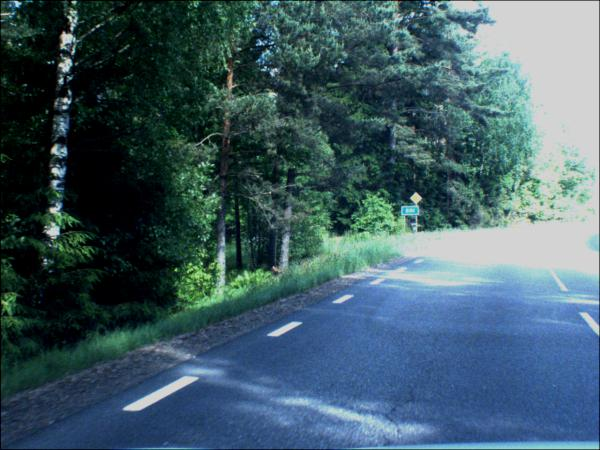PRIORITY_ROAD: (410, 193, 423, 206)
